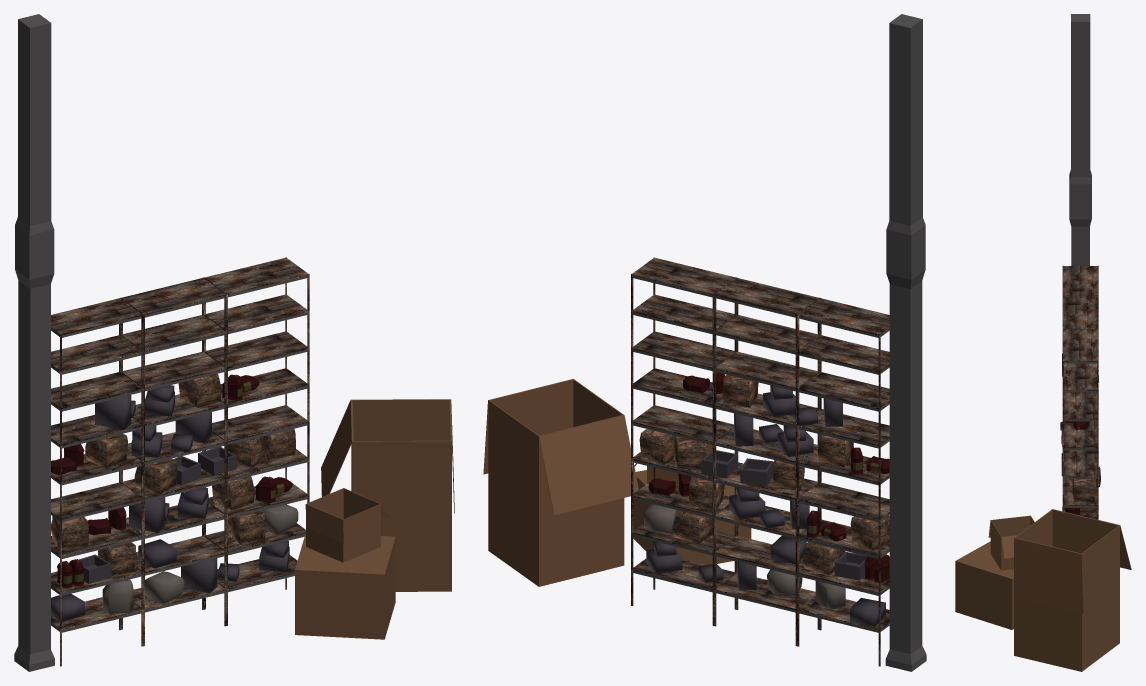
The model's file is TestShelf.fbx.
3 views of the same model, side by side, from view 1: azimuth 30°, elevation 25°; view 2: azimuth 150°, elevation 25°; view 3: azimuth 270°, elevation 25° (orthographic). The views are drawn at different scales.
Parts seen in each view (by area): view 1: Shelving, Plane.001, Plane.005, Plane.004, Plane.003, TallBrownBox.009, TallBrownBox.008, TallBrownBox.010, ShortWoodBox.013, ShortWoodBox.017, TallBrownBox.002, TallBrownBox.003 (+13 smaller); view 2: Shelving, Plane.005, Plane.001, Plane.004, TallBrownBox.001, TallBrownBox.002, TallBrownBox.007, TallBrownBox.010, TallBrownBox.006, TallBrownBox, TallBrownBox.009, TallBrownBox.003 (+10 smaller); view 3: Plane.005, Shelving, Plane.001, Plane.004, Plane.003, TallBrownBox.007.
Boxes of the visible parts, left/top/right/bottom form: Shelving: left=51, top=257, right=309, bottom=666; Plane.001: left=14, top=14, right=54, bottom=671; Plane.005: left=321, top=399, right=454, bottom=591; Plane.004: left=295, top=533, right=395, bottom=639; Plane.003: left=305, top=488, right=392, bottom=562; TallBrownBox.009: left=85, top=433, right=127, bottom=468; TallBrownBox.008: left=134, top=458, right=177, bottom=494; TallBrownBox.010: left=178, top=374, right=221, bottom=407; ShortWoodBox.013: left=95, top=395, right=131, bottom=430; ShortWoodBox.017: left=181, top=558, right=217, bottom=593; TallBrownBox.002: left=228, top=510, right=266, bottom=544; TallBrownBox.003: left=212, top=476, right=254, bottom=509; Shelving: left=631, top=257, right=889, bottom=666; Plane.005: left=483, top=379, right=638, bottom=586; Plane.001: left=885, top=14, right=926, bottom=671; Plane.004: left=633, top=470, right=751, bottom=564; TallBrownBox.001: left=850, top=515, right=889, bottom=550; TallBrownBox.002: left=672, top=510, right=712, bottom=543; TallBrownBox.007: left=639, top=429, right=674, bottom=464; TallBrownBox.010: left=722, top=375, right=758, bottom=407; TallBrownBox.006: left=673, top=435, right=706, bottom=470; TallBrownBox: left=803, top=542, right=845, bottom=574; TallBrownBox.009: left=817, top=434, right=853, bottom=467; TallBrownBox.003: left=689, top=477, right=724, bottom=509; Plane.005: left=1013, top=509, right=1131, bottom=671; Shelving: left=1062, top=265, right=1098, bottom=519; Plane.001: left=1069, top=14, right=1091, bottom=265; Plane.004: left=955, top=541, right=1013, bottom=629; Plane.003: left=988, top=515, right=1034, bottom=570; TallBrownBox.007: left=1072, top=479, right=1095, bottom=502.
Size of the model in its own units: 350 by 157 by 495.
Materials: 11 (2 with a texture image).
